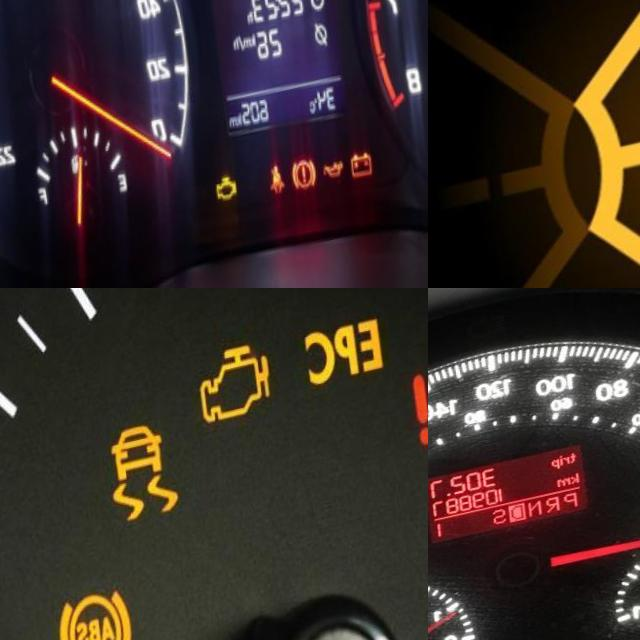Seat Belt: (253, 174, 278, 215)
Washer Fluid: (551, 0, 640, 288)
